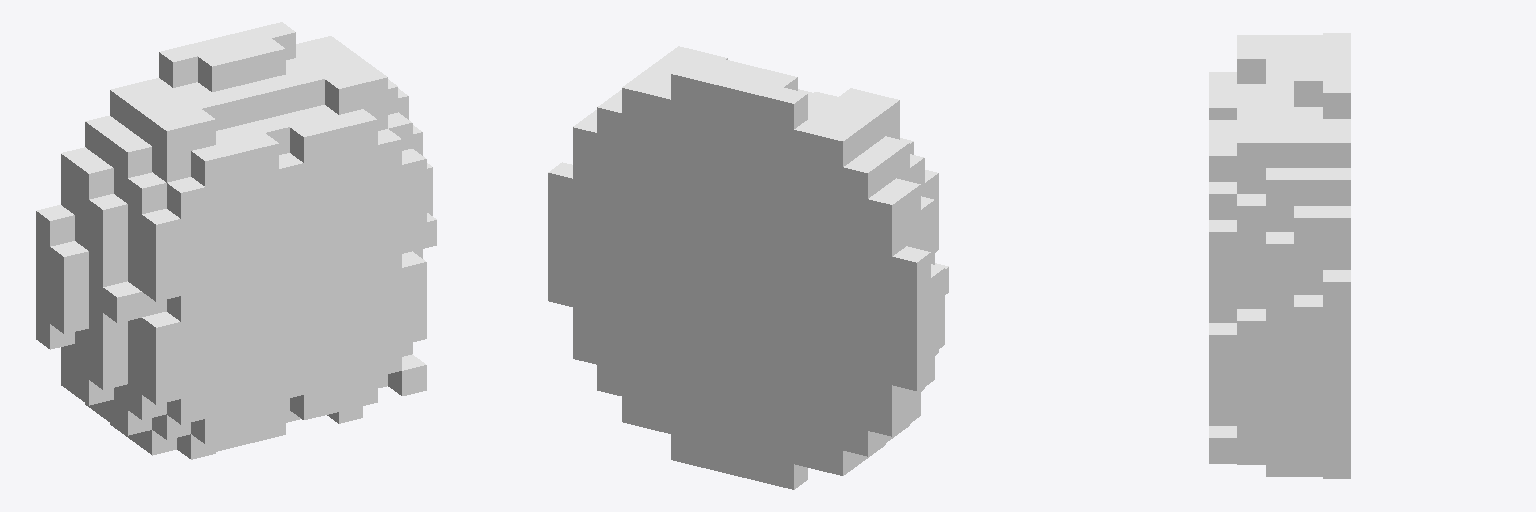
Rendered from slimeeyedead.obj.
3 views of the same model, side by side, from view 1: azimuth 30°, elevation 25°; view 2: azimuth 150°, elevation 25°; view 3: azimuth 270°, elevation 25° (orthographic).
Visible parts, largest first — view 1: object 1; view 2: object 1; view 3: object 1.
Boxes of the visible parts, x1=… form: object 1: x1=36, y1=22, x2=436, y2=459; object 1: x1=548, y1=46, x2=948, y2=489; object 1: x1=1209, y1=33, x2=1350, y2=478.
Size of the model in its own units: 1.5 by 1.5 by 0.5.